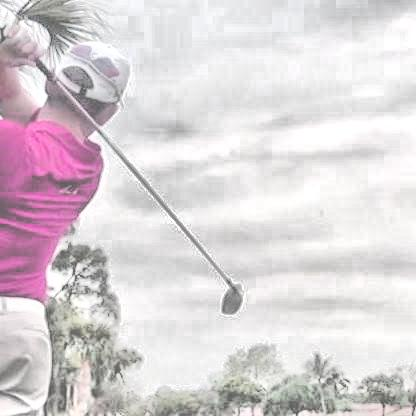golfball: (314, 207, 323, 216)
